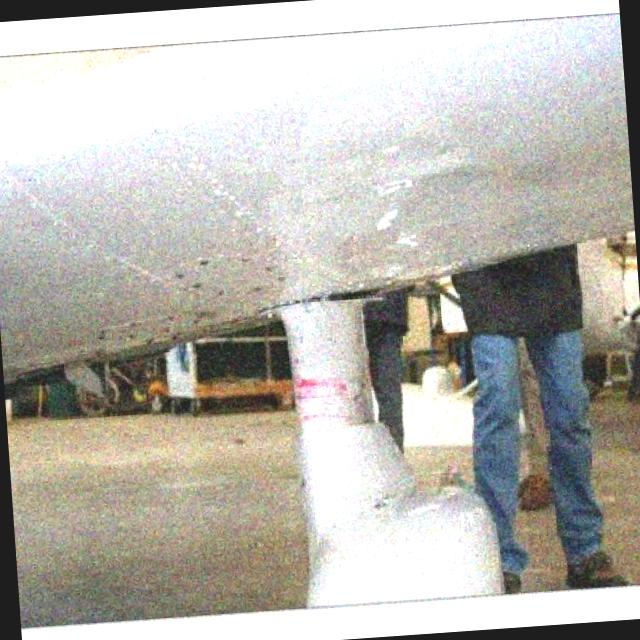dent: (375, 173, 420, 202)
